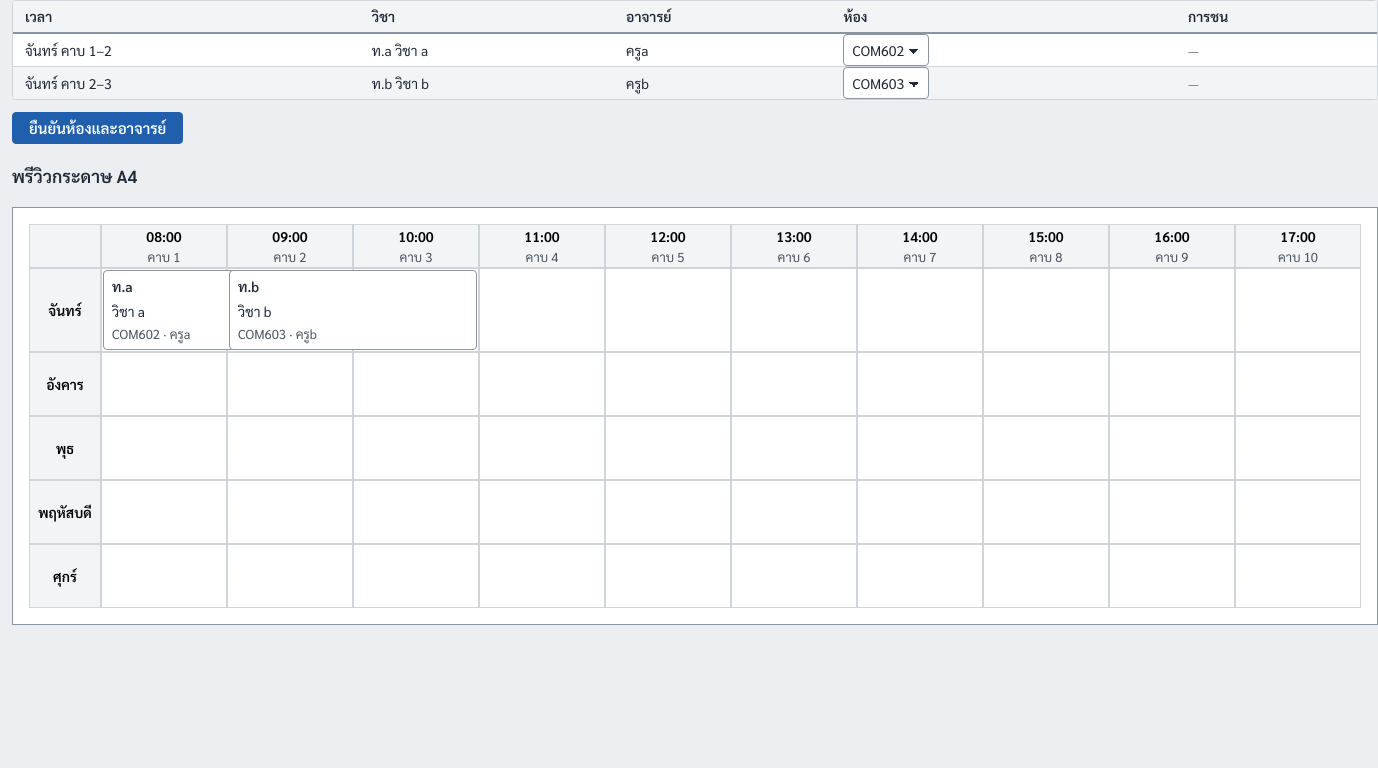
Test: ขั้น 7 ห้อง + อาจารย์ › เลือกห้องซ้ำกับอีกคาบที่เวลาทับกัน -> ชนห้องทันที (ตรวจสด) และบันทึกผลไว้
Expected: the button "ยืนยันห้องและอาจารย์" is enabled, left=12, top=112, right=183, bottom=144
Select "COM602" in the dropdown named "ห้องของ ท.b": (886, 83) left=844, top=67, right=930, bottom=99
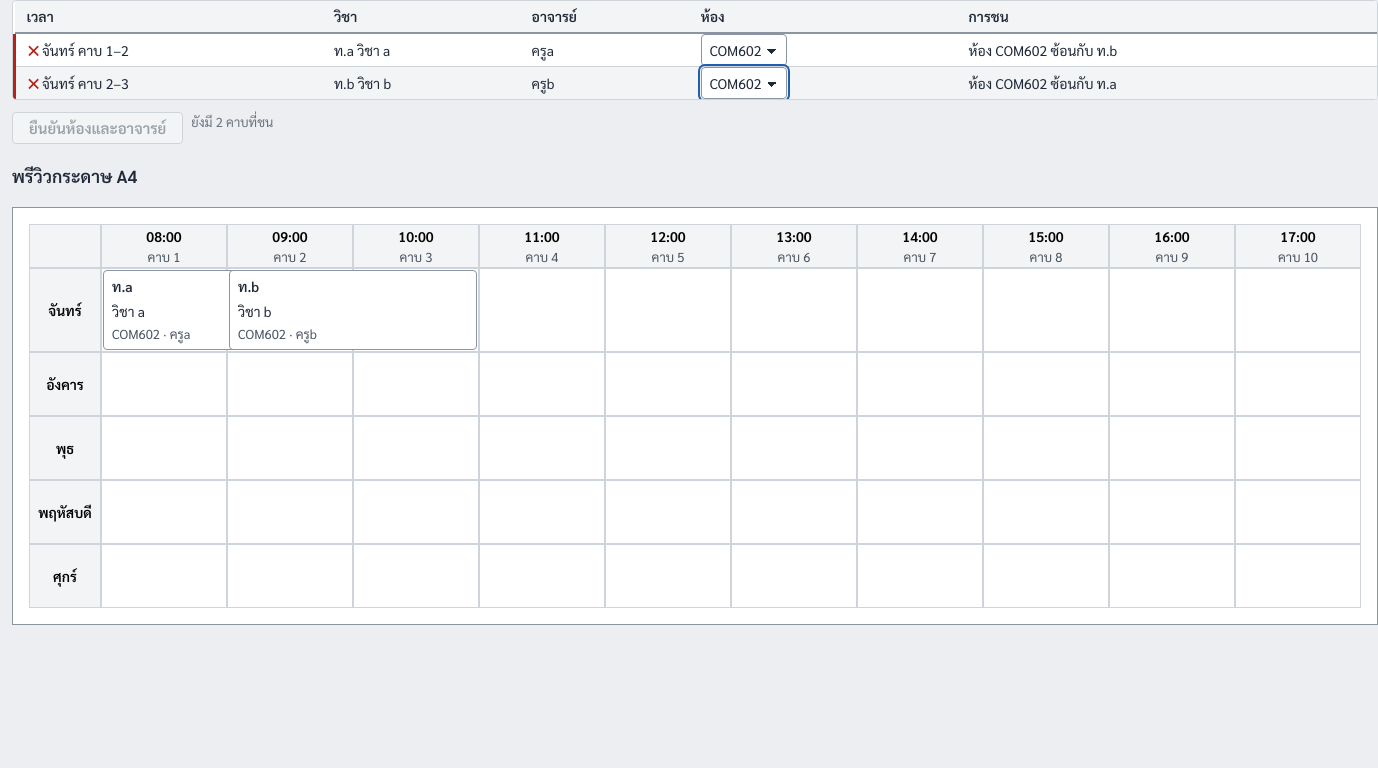
Expected: the text "ห้อง COM602 ซ้อนกับ ท.b" is shown 2 times, left=957, top=34, right=1377, bottom=66; left=957, top=66, right=1377, bottom=99
Now the button "ยืนยันห้องและอาจารย์" is disabled, box left=12, top=112, right=183, bottom=144
